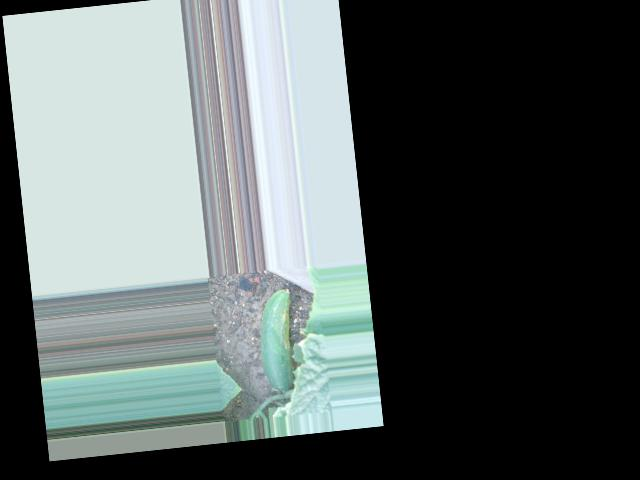cucumber: (255, 288, 300, 392)
